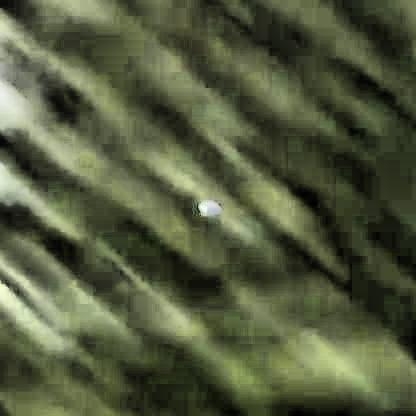golfball: (193, 200, 221, 219)
